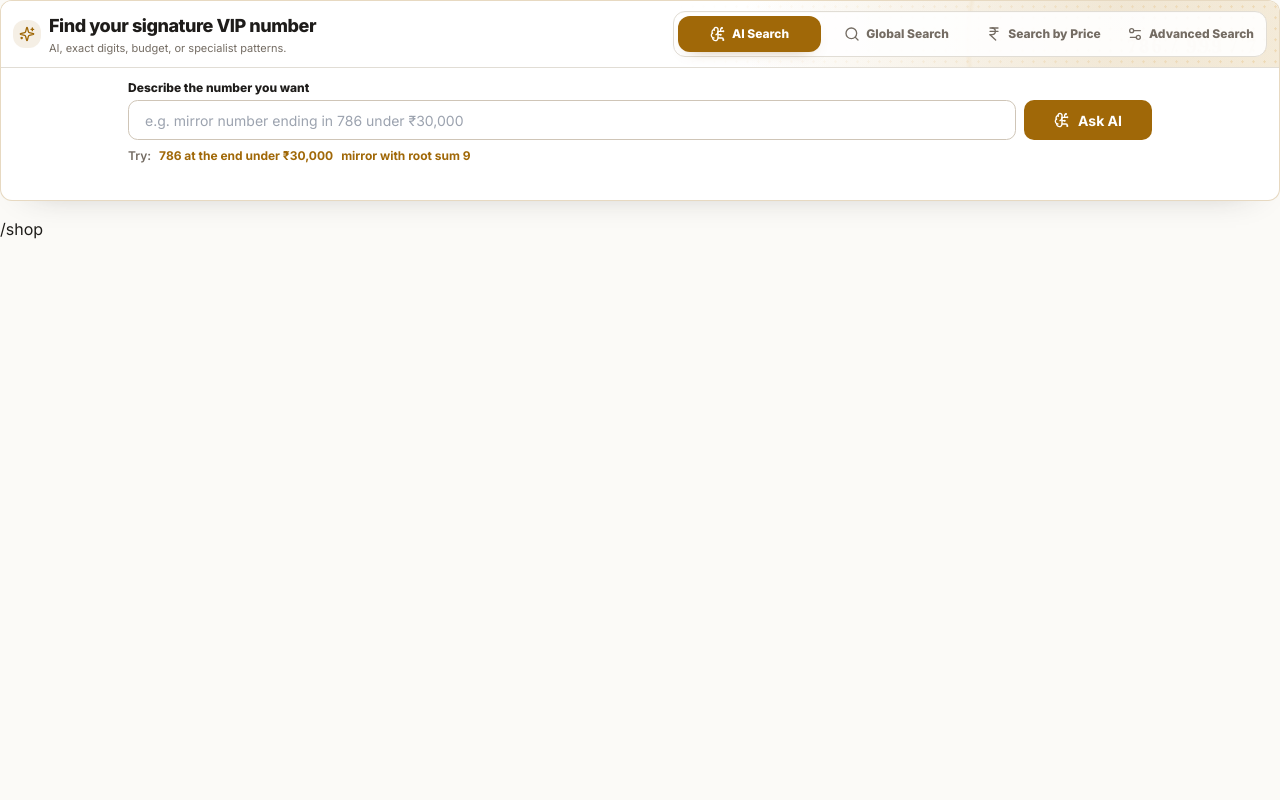
SearchWorkbench › resets only the Advanced Search draft and returns focus on Escape
This screenshot has width=1280, height=800.
Step 1. Click the tab "Advanced Search" → (1190, 34), box [1119,16,1262,52]
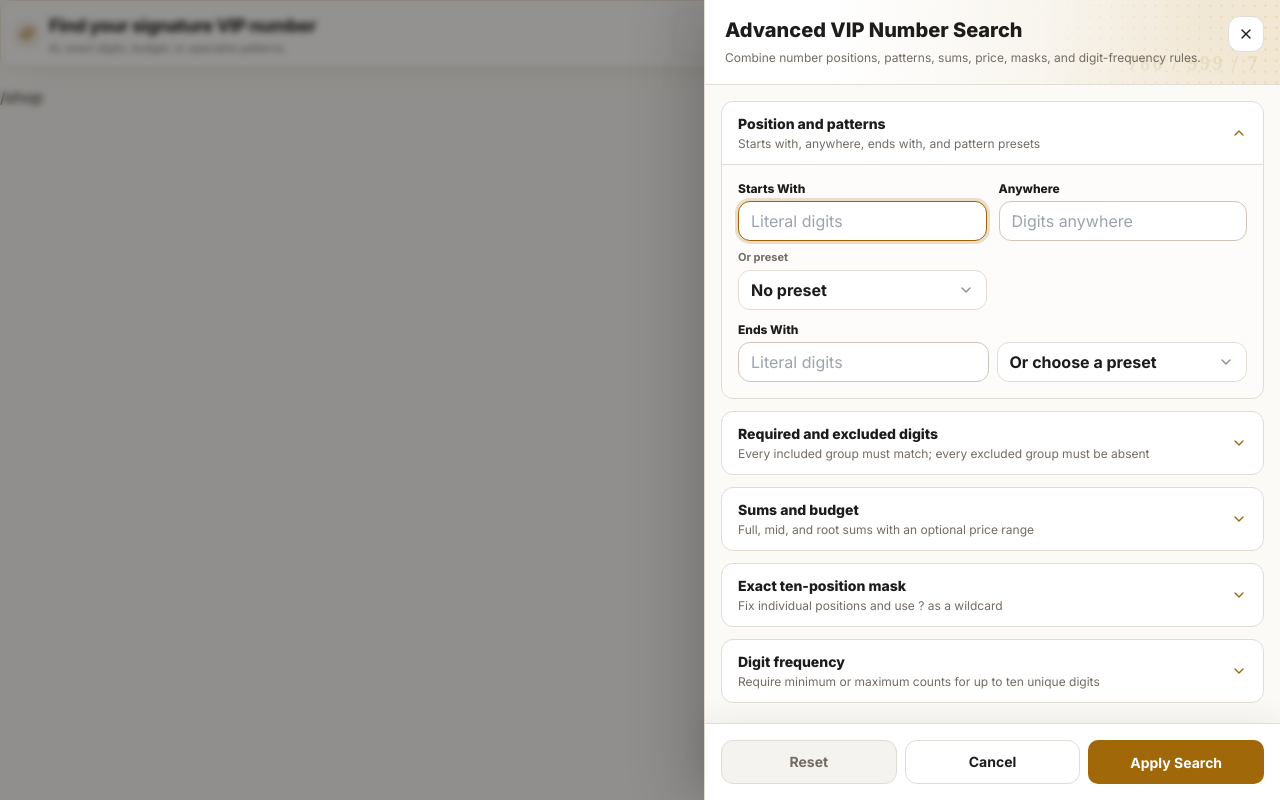
Step 2. Type "98" into the field labelled "Starts With" → (862, 221), box [738,201,986,241]
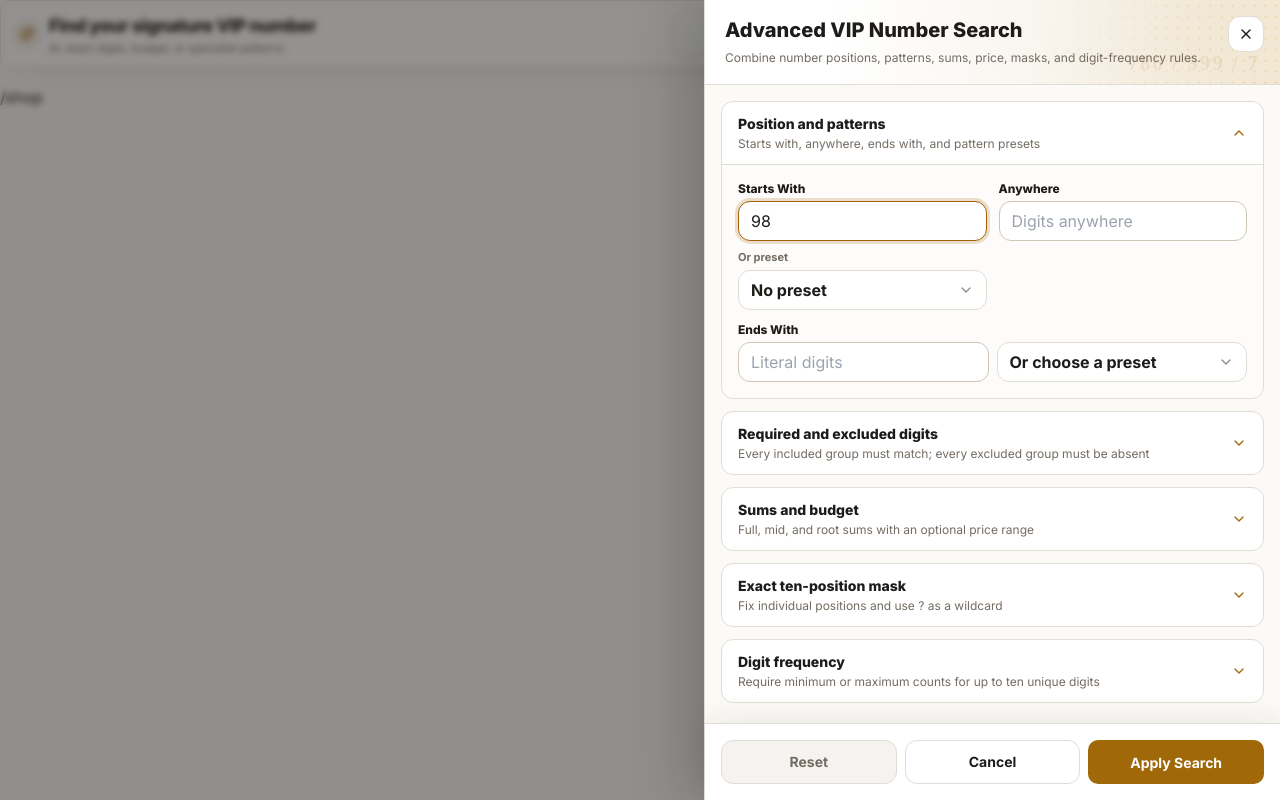
Step 3. Click the button "Reset" → (809, 762), box [721,740,897,784]
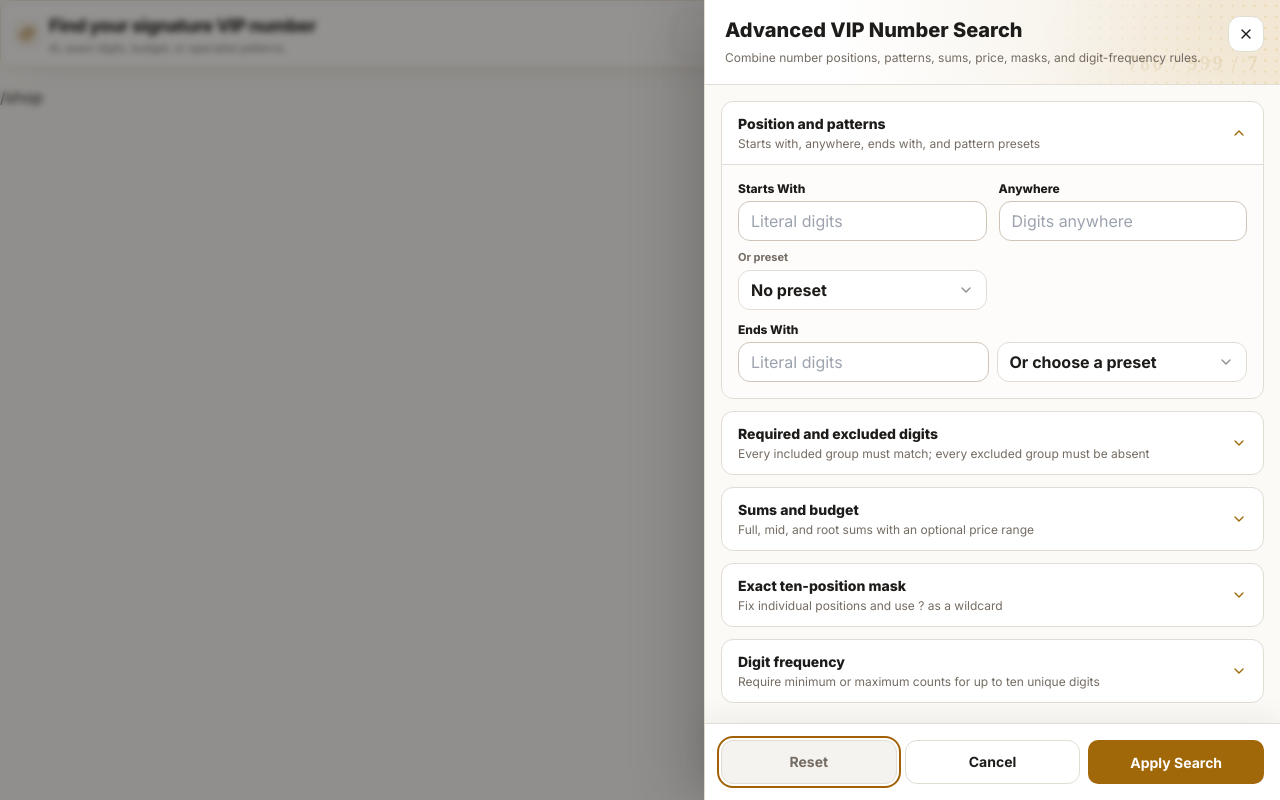
expect the text with test id "location" reads "/shop": met, box [0,87,43,107]
expect the field labelled "Starts With" is empty: met, box [738,201,986,241]
Step 4. Press Escape
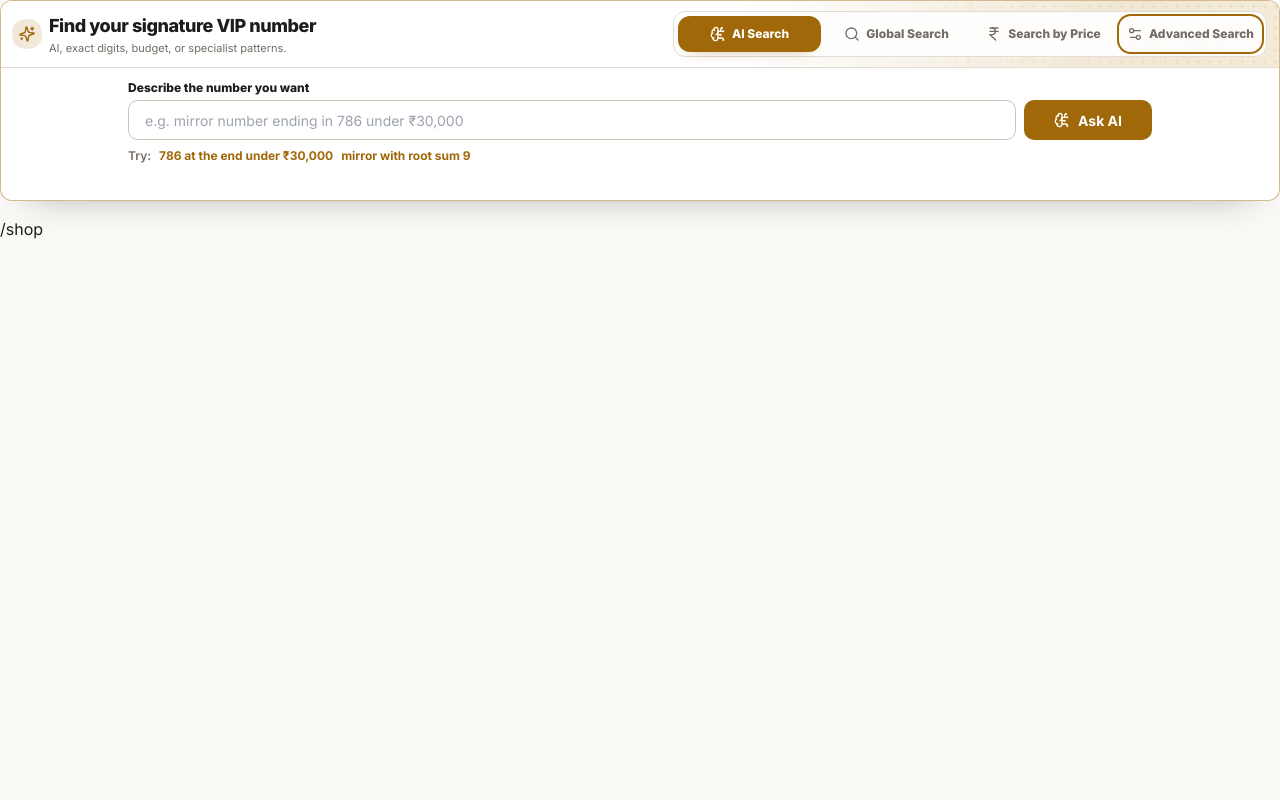
expect the dialog is gone: met
